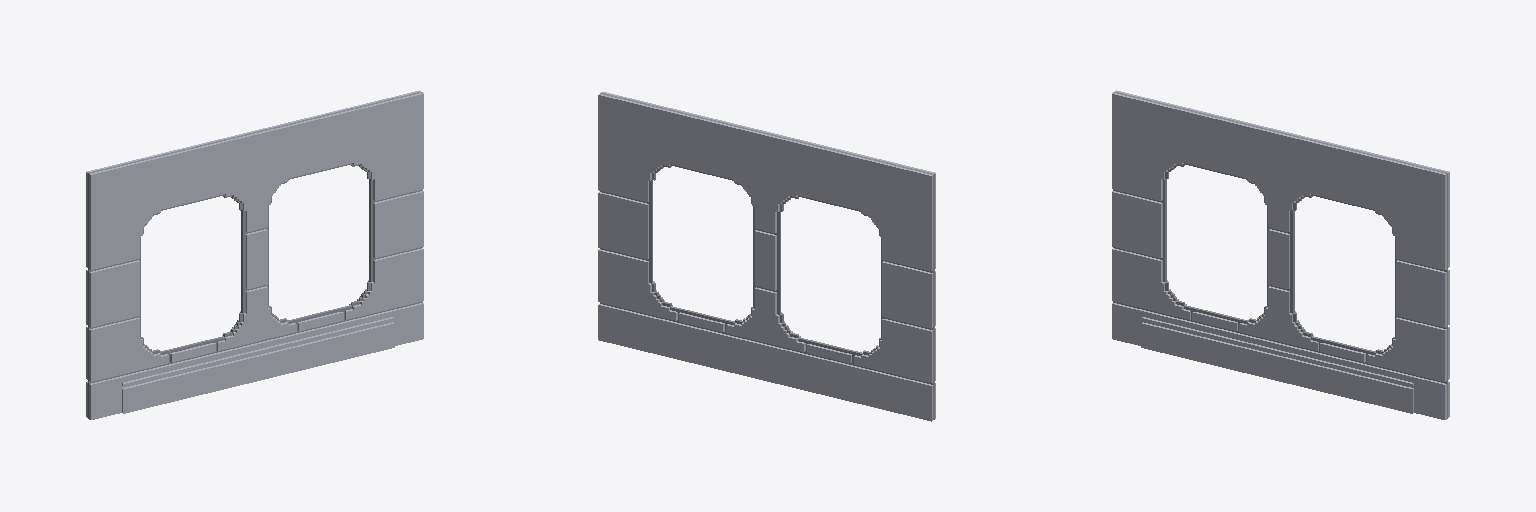
3 views of the same model, side by side, from view 1: azimuth 30°, elevation 25°; view 2: azimuth 150°, elevation 25°; view 3: azimuth 330°, elevation 25° (orthographic).
Visible parts, largest first — view 1: Wall_Window_Small; view 2: Wall_Window_Small; view 3: Wall_Window_Small.
Part boxes in pixels (x1,y1,x2,y2): Wall_Window_Small: (86, 90, 423, 419); Wall_Window_Small: (598, 92, 935, 421); Wall_Window_Small: (1112, 90, 1449, 419).
Size of the model in its own units: 128 by 90 by 4.
Materials: 1 (1 with a texture image).